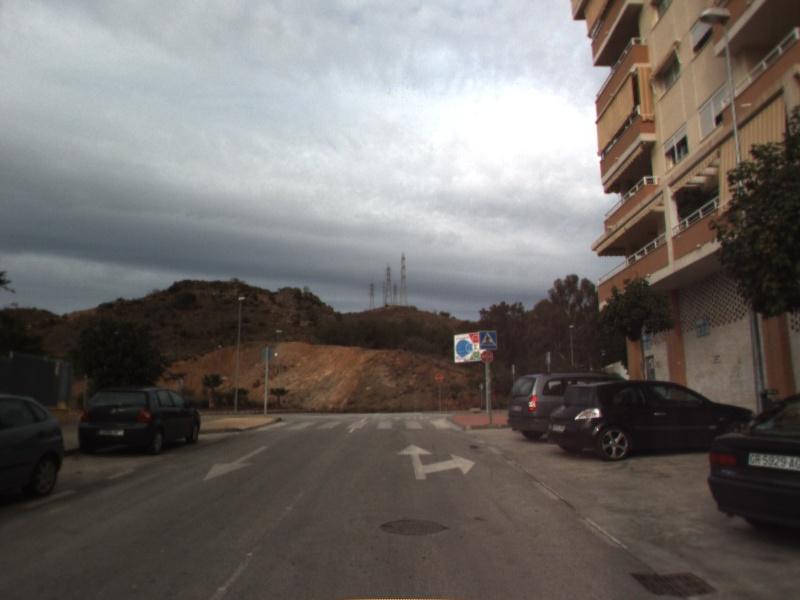STRAIGHT_RIGHT: (395, 441, 478, 481)
